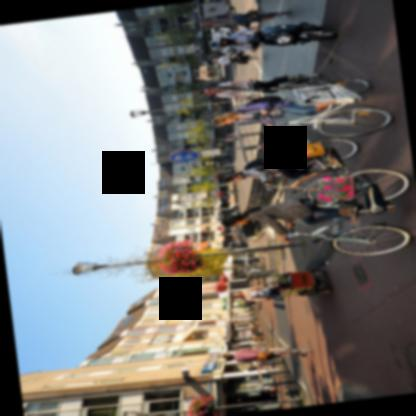backpack: (243, 155, 281, 169), (243, 94, 283, 105)
handbag: (213, 85, 279, 92), (242, 349, 271, 362), (214, 18, 234, 23), (231, 42, 252, 45)
